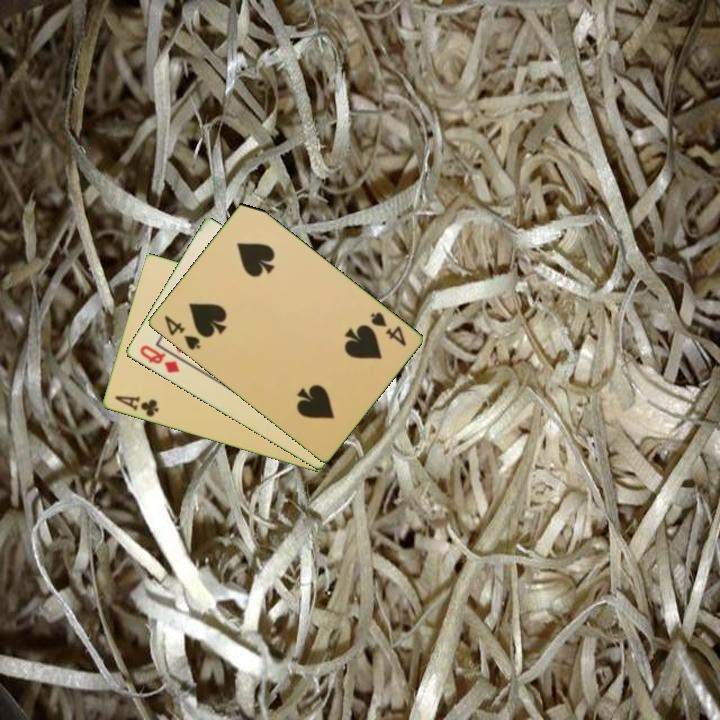4s: (160, 312, 203, 353), (366, 308, 409, 349)
Ac: (111, 392, 161, 420)
Qd: (136, 341, 183, 376)
